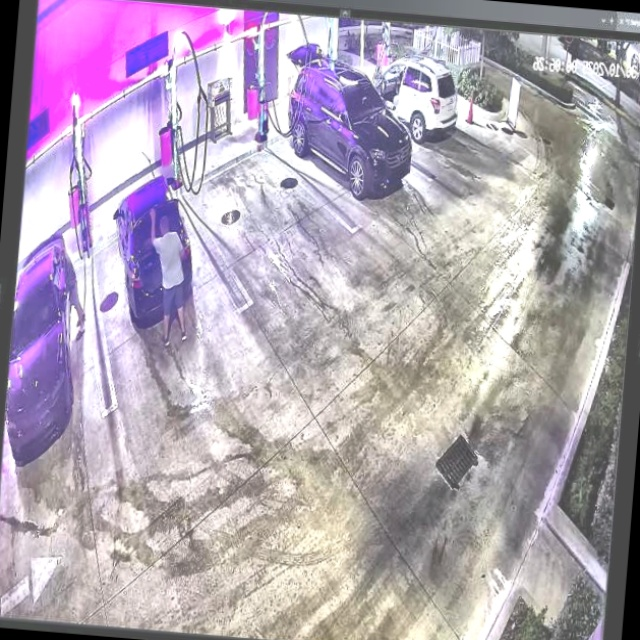Car: (279, 59, 418, 201), (103, 173, 199, 334)
